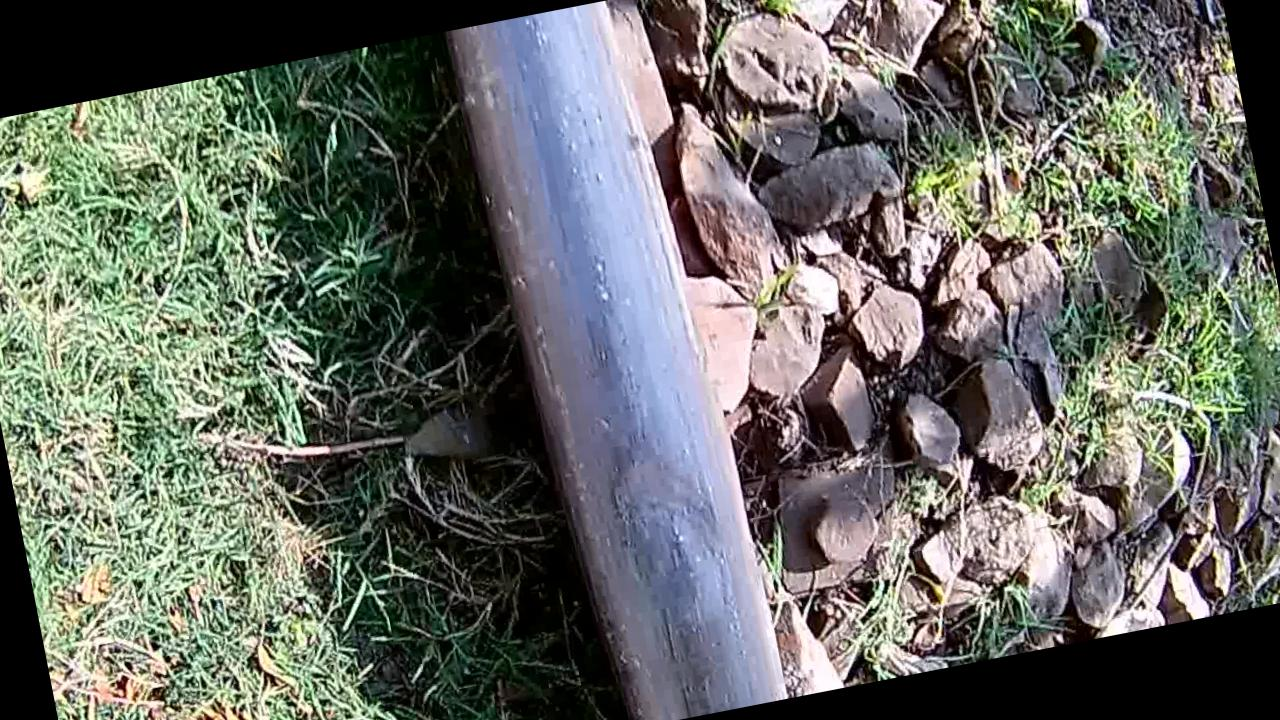bolt_missing: (548, 388, 778, 686)
